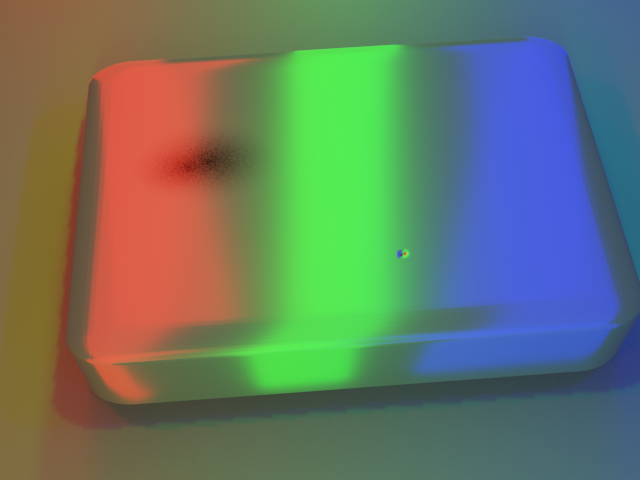dent: (393, 237, 425, 273)
stain: (76, 89, 295, 208)
